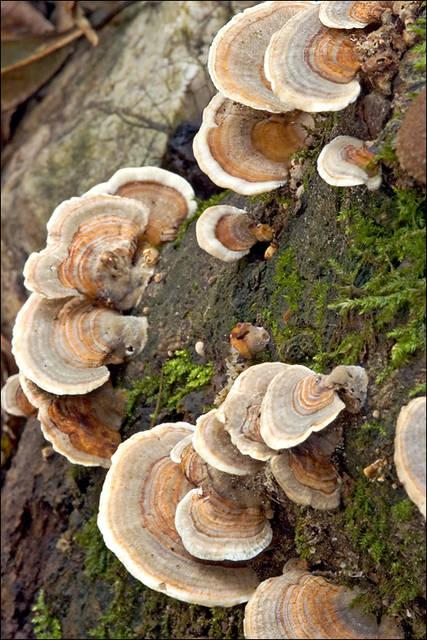poisonous_mushroom: (95, 359, 368, 608), (0, 157, 199, 456), (198, 0, 427, 107), (191, 90, 315, 196), (315, 133, 383, 192)
